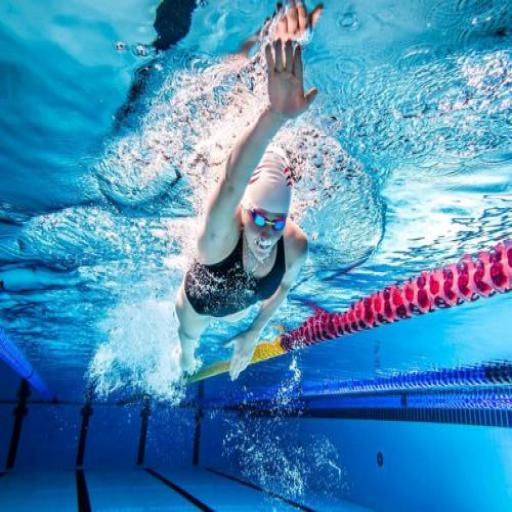swimming: (168, 13, 324, 385)
